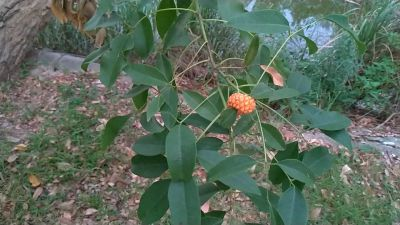eggs: (228, 89, 258, 111)
